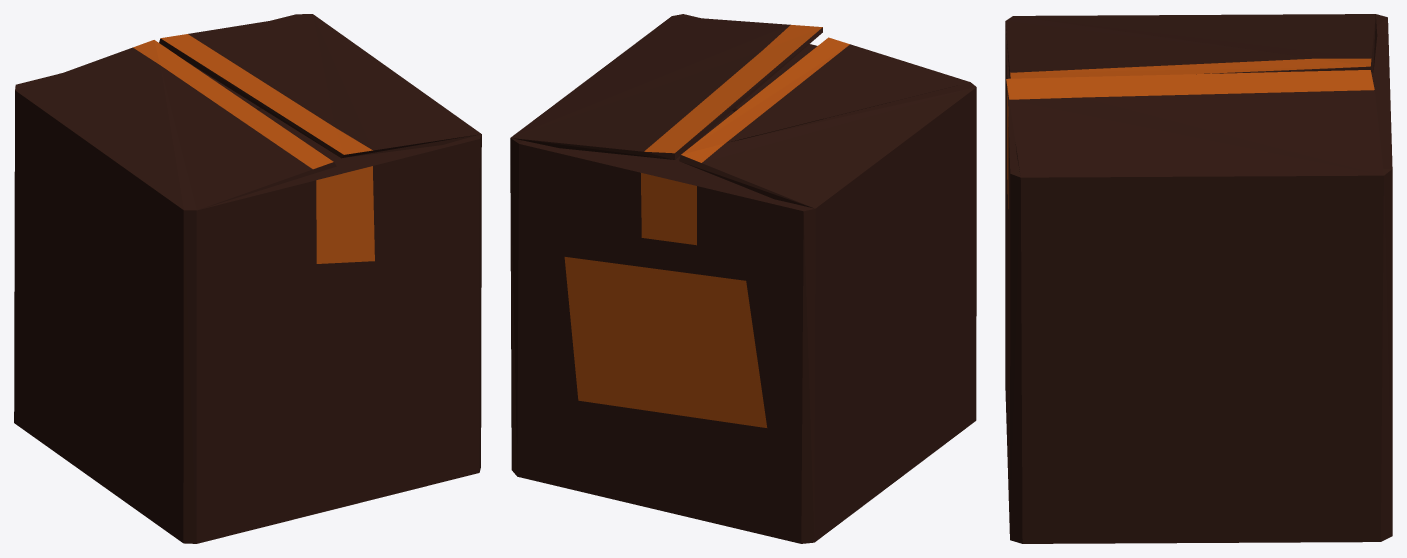
3 views of the same model, side by side, from view 1: azimuth 30°, elevation 25°; view 2: azimuth 150°, elevation 25°; view 3: azimuth 270°, elevation 25° (orthographic). The views are drawn at different scales.
Visible parts, largest first — view 1: box; view 2: box; view 3: box.
Part boxes in pixels (x1=…): box: x1=14, y1=14, x2=481, y2=543; box: x1=510, y1=14, x2=976, y2=543; box: x1=1005, y1=14, x2=1392, y2=543.
Bounding box in the file's own units: 0.3622 × 0.4 × 0.3621.
